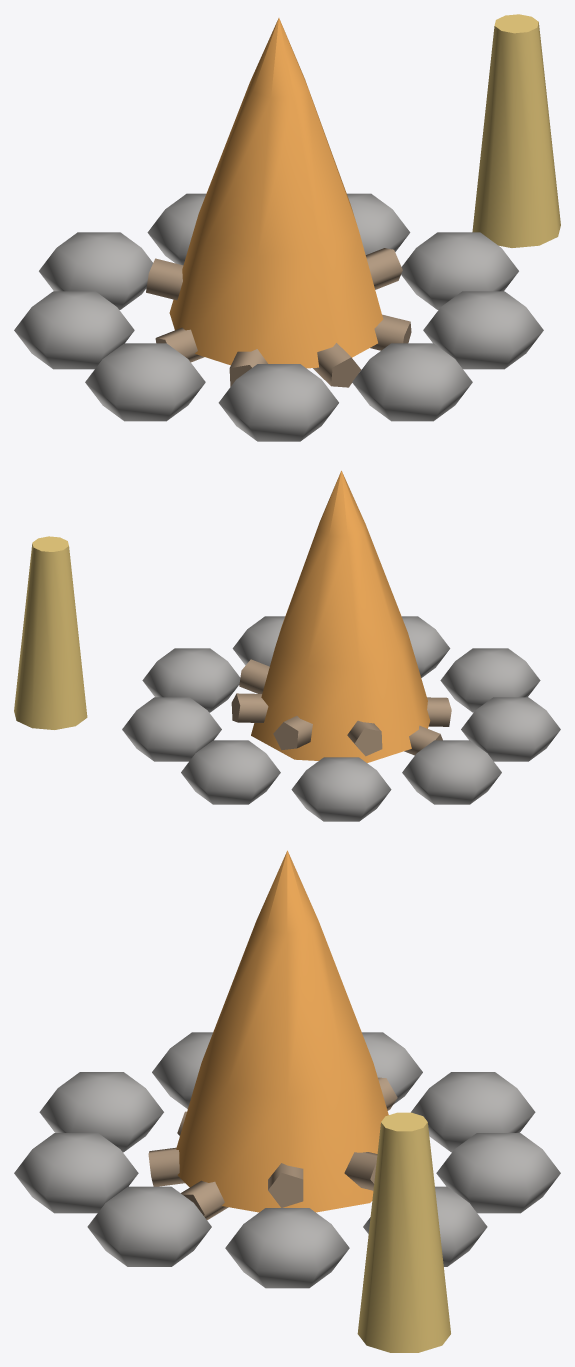
File: SM_Campfire.fbx
The picture shows the model from 3 angles, top to bottom: view 1: azimuth 30°, elevation 25°; view 2: azimuth 150°, elevation 25°; view 3: azimuth 270°, elevation 25°; orthographic projection. The views are drawn at different scales.
Visible parts, largest first — view 1: SM_Campfire; view 2: SM_Campfire; view 3: SM_Campfire.
Part boxes in pixels (x1=…): SM_Campfire: x1=14, y1=14, x2=560, y2=441; SM_Campfire: x1=14, y1=470, x2=560, y2=821; SM_Campfire: x1=14, y1=850, x2=560, y2=1352.
Bounding box in the file's own units: 167 × 96.6 × 140.
